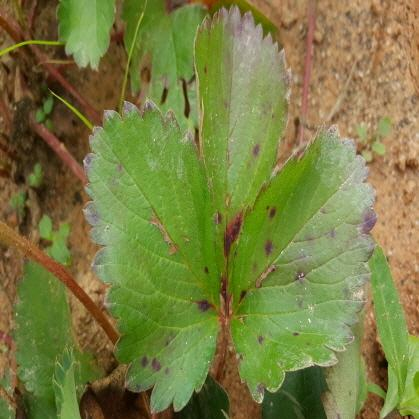Leaf Spot: (80, 95, 220, 415), (225, 120, 378, 404), (193, 1, 291, 312)
